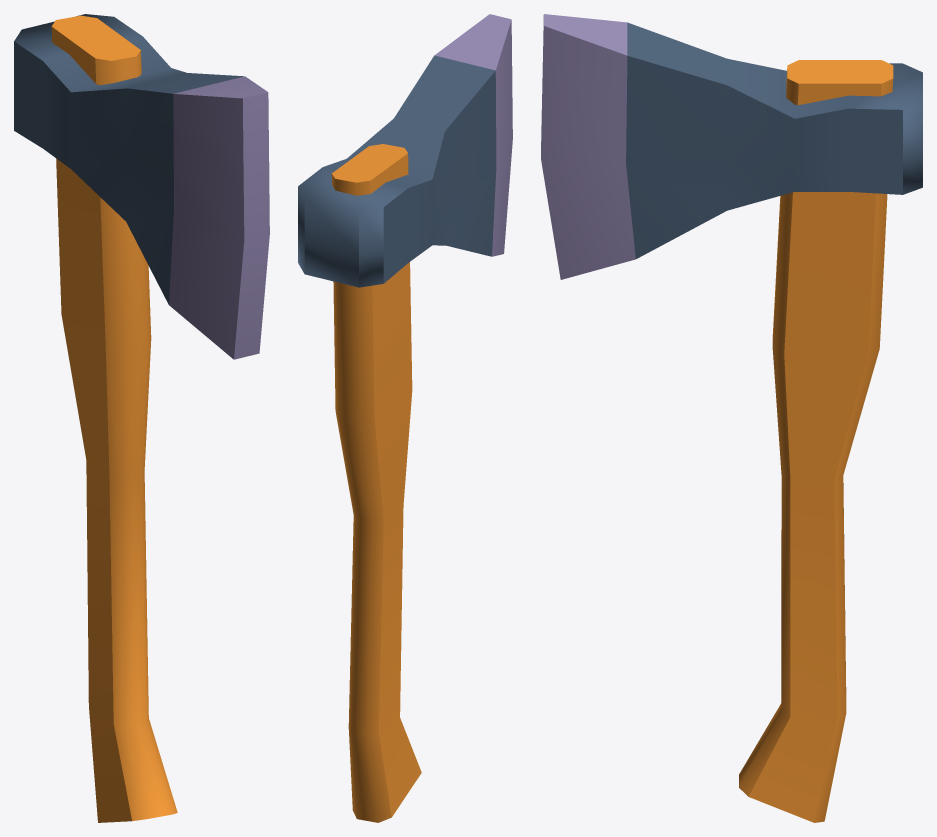
File: Axe.fbx
3 renders of one model, left to right at view 1: azimuth 30°, elevation 25°; view 2: azimuth 150°, elevation 25°; view 3: azimuth 270°, elevation 25°, orthographic. The views are drawn at different scales.
Parts seen in each view (by area): view 1: Axe; view 2: Axe; view 3: Axe.
Part boxes in pixels (x1,y1,x2,y2): Axe: (14, 14, 269, 822); Axe: (298, 14, 512, 822); Axe: (541, 14, 922, 822).
Size of the model in its own units: 0.2795 by 2.23 by 0.9724.
